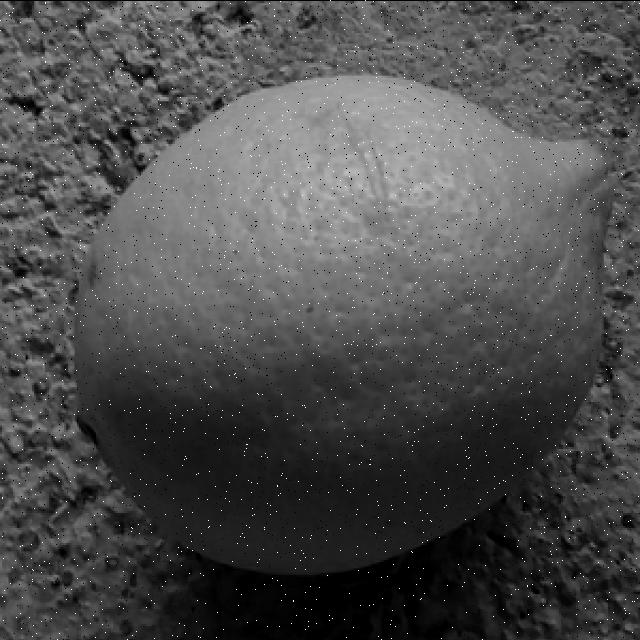Ripe: (66, 68, 617, 578)
